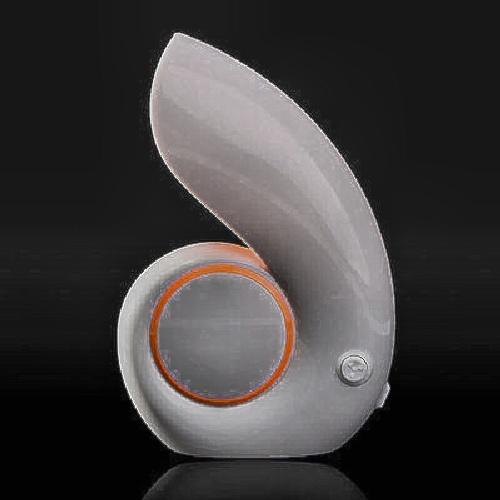fan: (120, 20, 402, 458)
